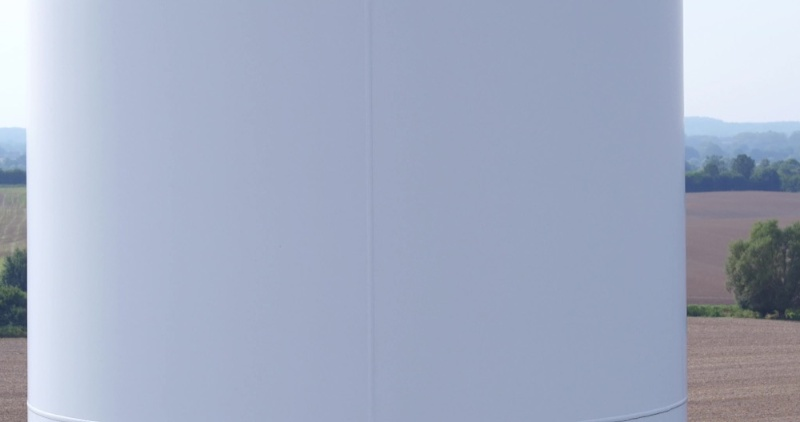weldseam: (358, 2, 380, 422), (572, 393, 689, 422), (27, 398, 103, 422)
